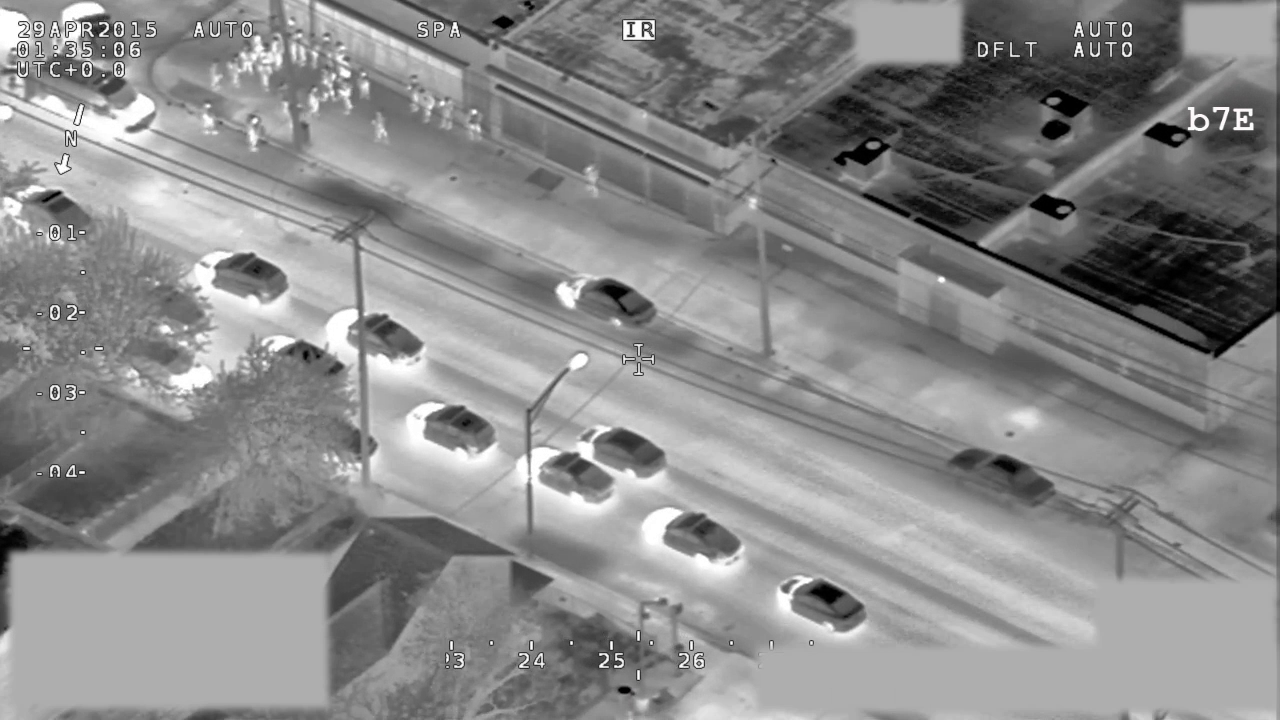vehicle: (30, 53, 160, 146), (115, 324, 220, 398), (943, 444, 1059, 508), (321, 303, 432, 369), (554, 266, 659, 333), (266, 405, 380, 464), (1, 182, 100, 247), (641, 505, 743, 568), (777, 571, 870, 639), (515, 445, 616, 507), (189, 249, 293, 308), (255, 334, 350, 397), (579, 422, 671, 483), (407, 403, 500, 462), (55, 1, 129, 62)
